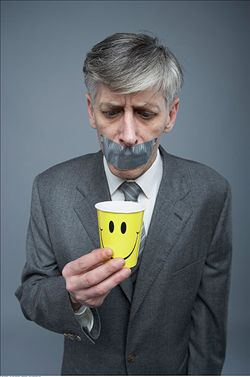face: (94, 69, 165, 180)
